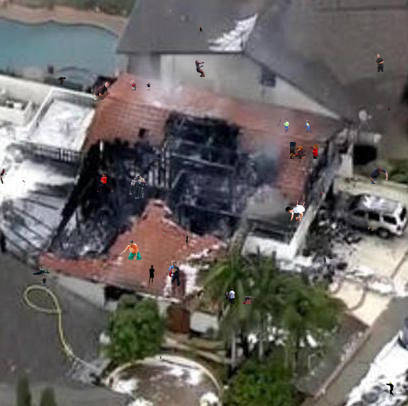Human: (119, 240, 143, 261), (290, 142, 319, 159), (285, 198, 306, 221), (278, 119, 312, 133), (224, 288, 253, 304), (129, 176, 148, 199), (369, 166, 388, 184), (93, 81, 111, 100), (168, 262, 181, 286), (97, 173, 113, 192), (131, 82, 151, 92), (31, 266, 52, 275), (28, 276, 46, 286), (195, 60, 205, 77), (375, 54, 384, 72), (148, 265, 155, 285), (386, 382, 394, 396), (0, 168, 7, 184), (323, 255, 333, 264), (58, 77, 66, 85), (364, 226, 374, 232), (199, 25, 203, 34), (185, 234, 188, 246), (320, 189, 323, 199), (22, 180, 26, 185), (159, 356, 162, 360), (46, 311, 49, 315), (388, 106, 390, 111), (182, 296, 185, 299), (374, 7, 376, 11), (149, 199, 151, 201), (227, 224, 229, 226), (163, 232, 165, 234), (170, 10, 172, 12), (12, 281, 13, 284), (111, 385, 112, 388), (350, 98, 351, 100), (336, 91, 337, 93)
